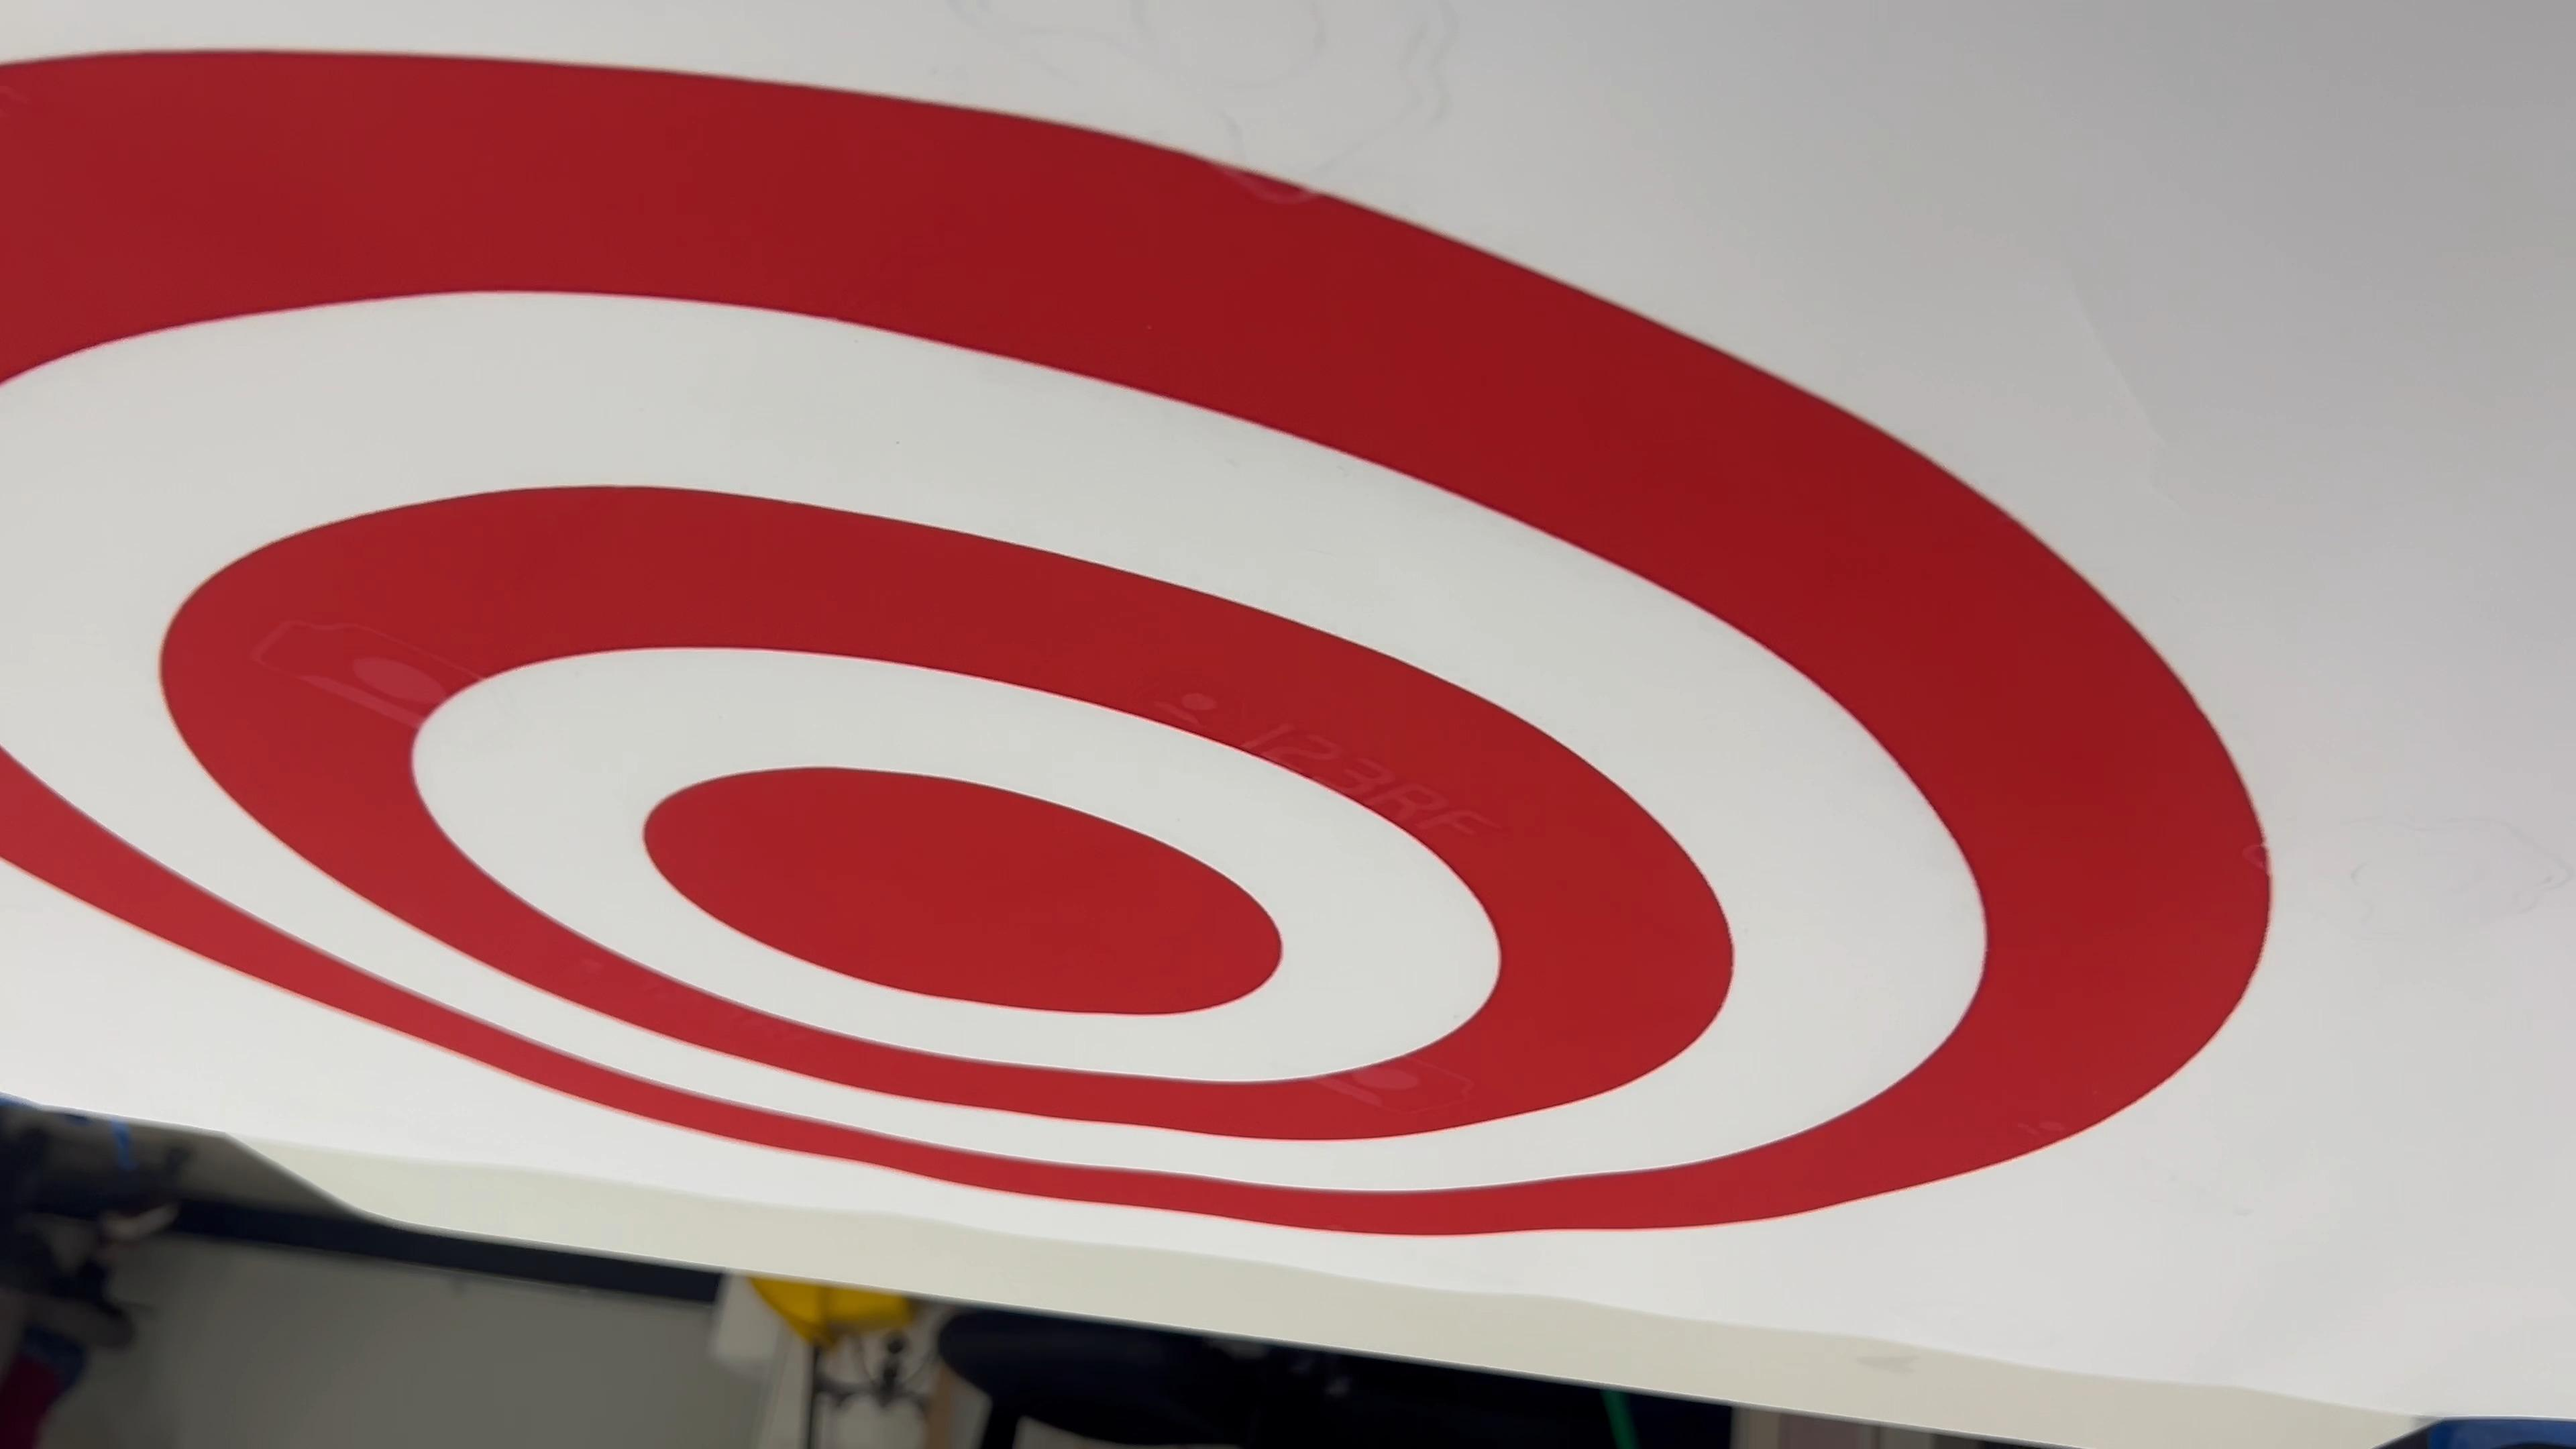target_red: (0, 0, 2309, 1316)
